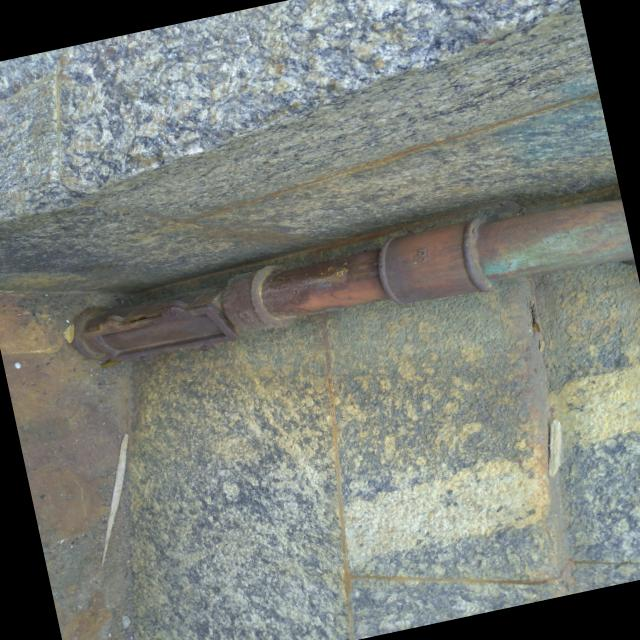gas: (84, 200, 633, 356)
